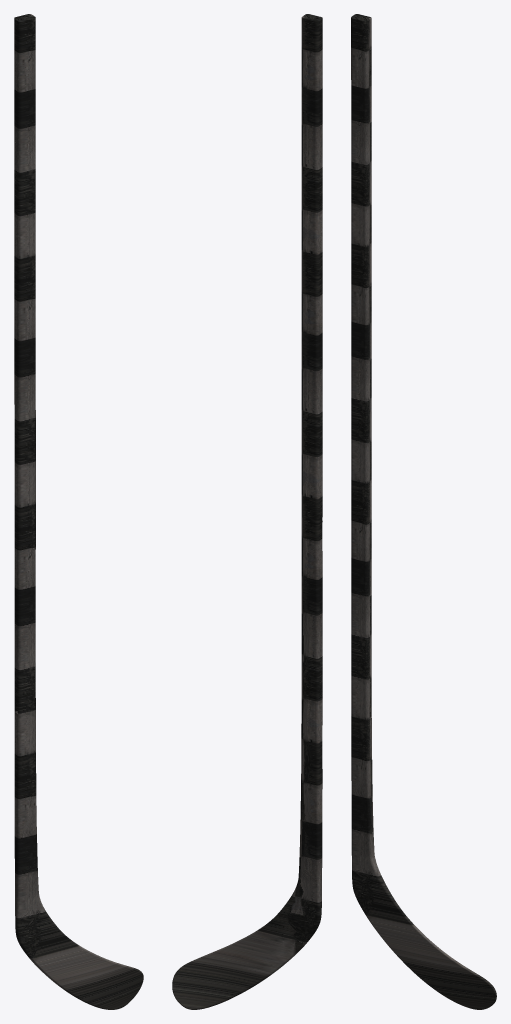
3 views of the same model, side by side, from view 1: azimuth 30°, elevation 25°; view 2: azimuth 150°, elevation 25°; view 3: azimuth 330°, elevation 25° (orthographic). The views are drawn at different scales.
Visible parts, largest first — view 1: geometry_0; view 2: geometry_0; view 3: geometry_0.
Boxes of the visible parts, x1,y1,x2,y2 form: geometry_0: (14,14,143,1009); geometry_0: (172,14,322,1009); geometry_0: (351,14,496,1009).
Bounding box in the file's own units: 234 × 1650 × 52.9.
1 material, 1 textured.
